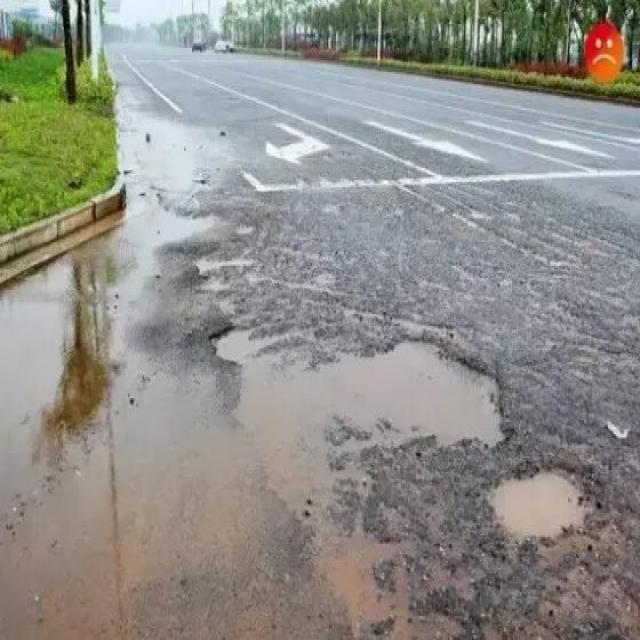Pothole: (206, 323, 594, 580)
